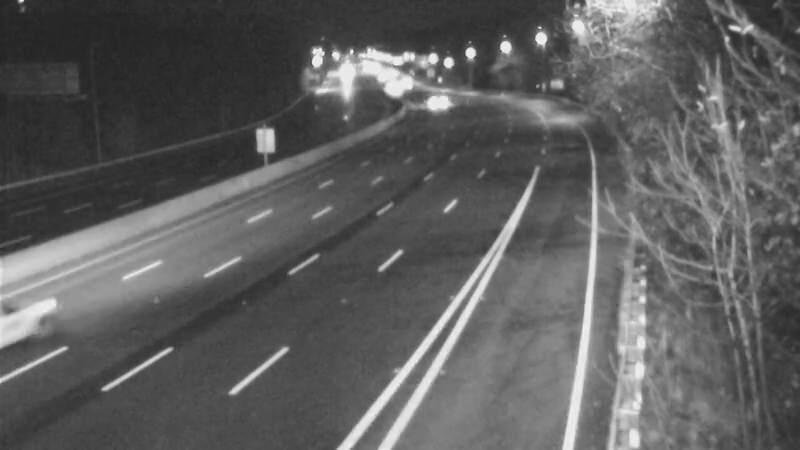vehicle: (410, 74, 460, 124)
